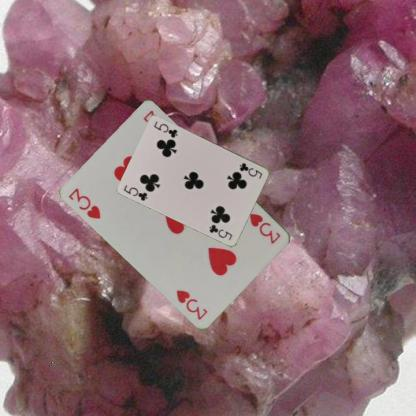3h: (66, 185, 102, 221), (247, 210, 282, 245)
5c: (121, 182, 149, 202), (237, 160, 264, 180)
